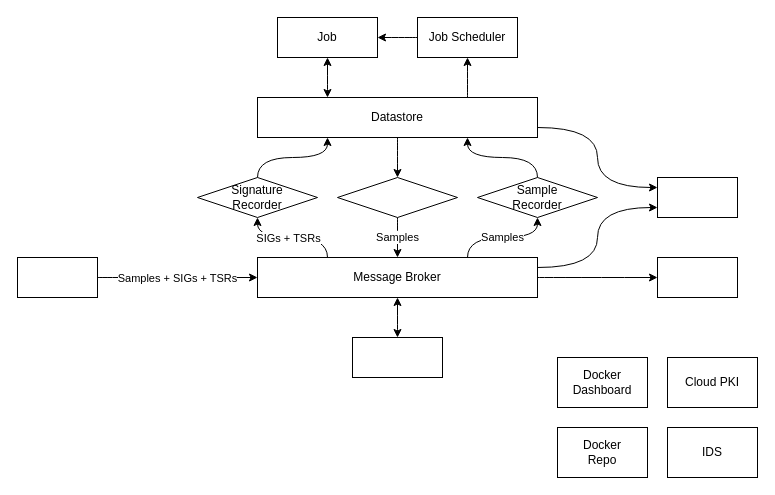
The diagram is 775 pixels wide and 495 high, and some of its shapes have lost their labels. The shapes that lost their labels are listed below. From the top down, each one's box as (x1, y1, x2, y2) in pixels, then its label:
(336, 176, 458, 218): Sample Player
(656, 176, 738, 218): Dashboard
(16, 256, 98, 298): Messstelle
(656, 256, 738, 298): Alarmierung
(352, 336, 442, 378): Streaming Worker
